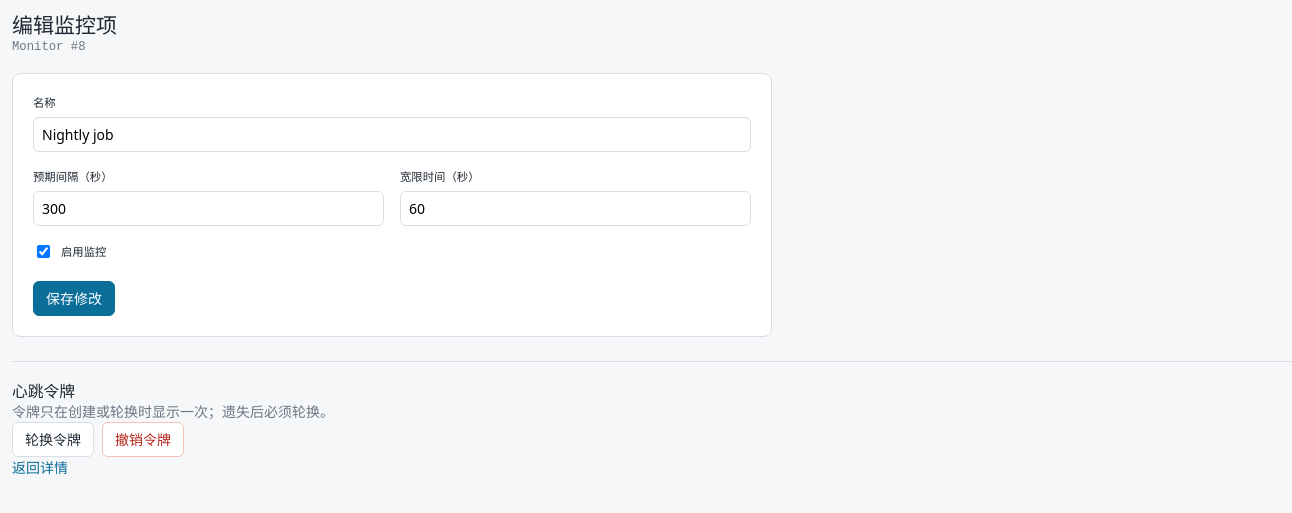
MonitorEditView › refills the heartbeat form with server values after saving
Replace the text in the field with id "heartbeat-name" with "  Trimmed  " at x=392, y=134, box [33,117,751,152]
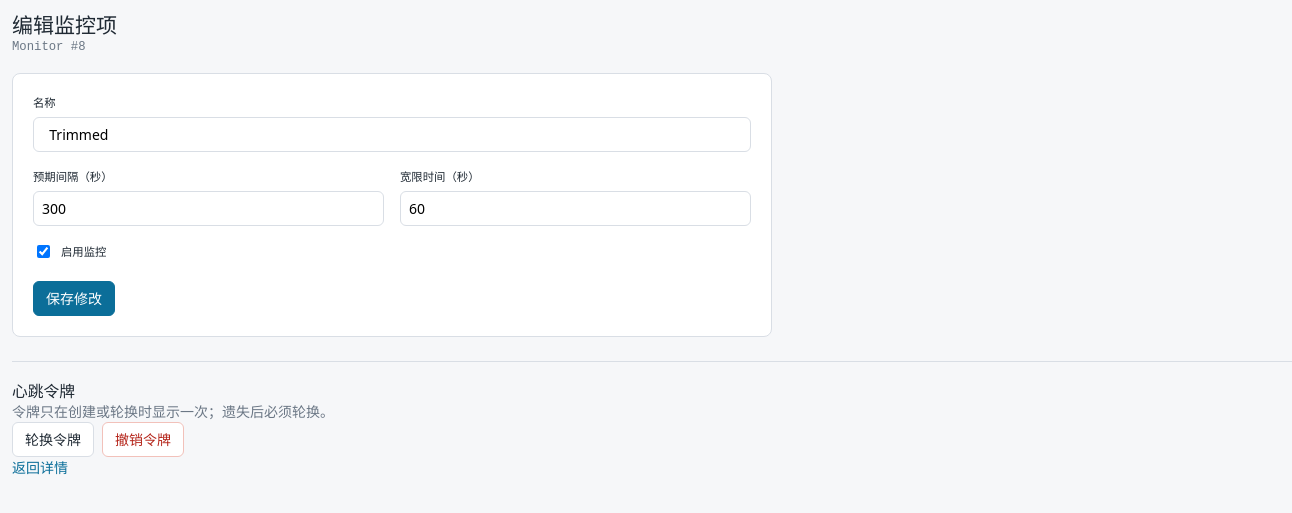
Replace the text in the number field with id "heartbeat-interval" with "600" at x=208, y=208, box [33,191,384,226]
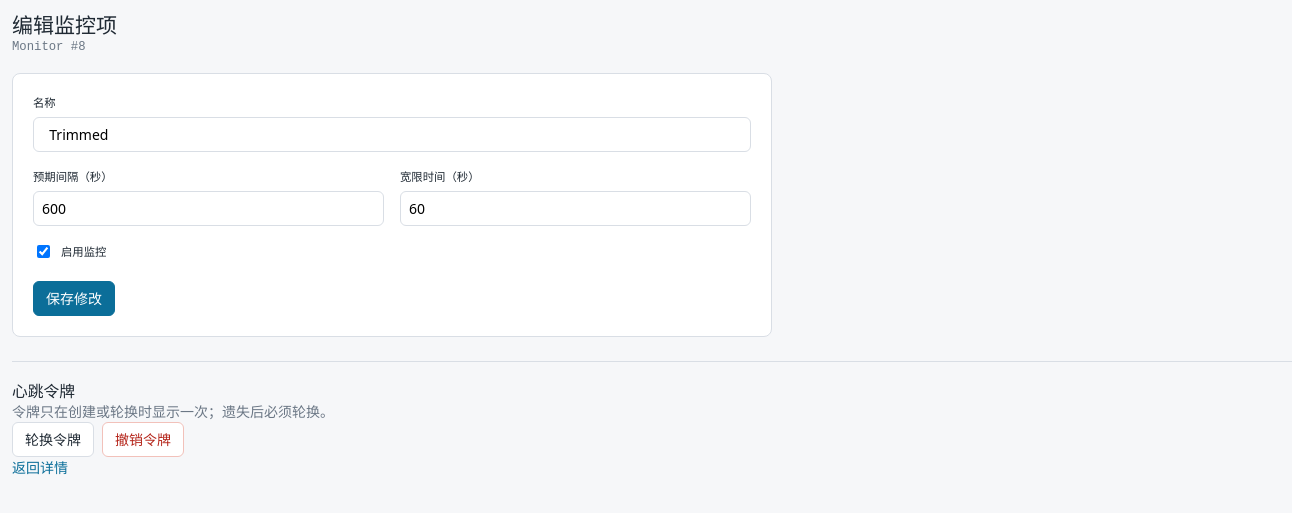
Submit the form, box [12,73,772,337]
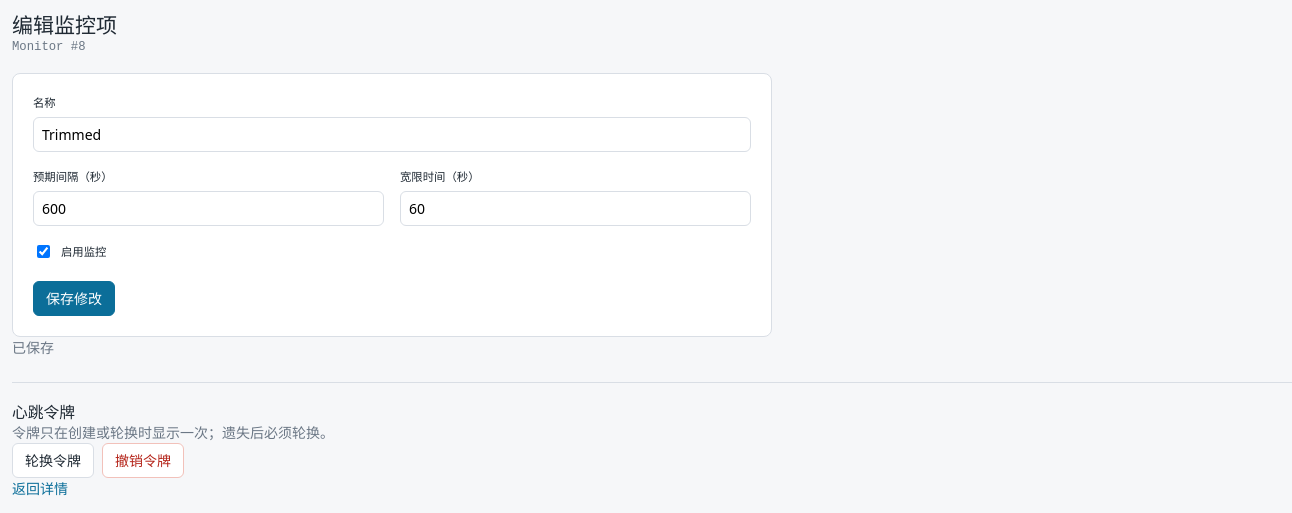
Check: the field with id "heartbeat-name" holds "Trimmed", box [33,117,751,152]
